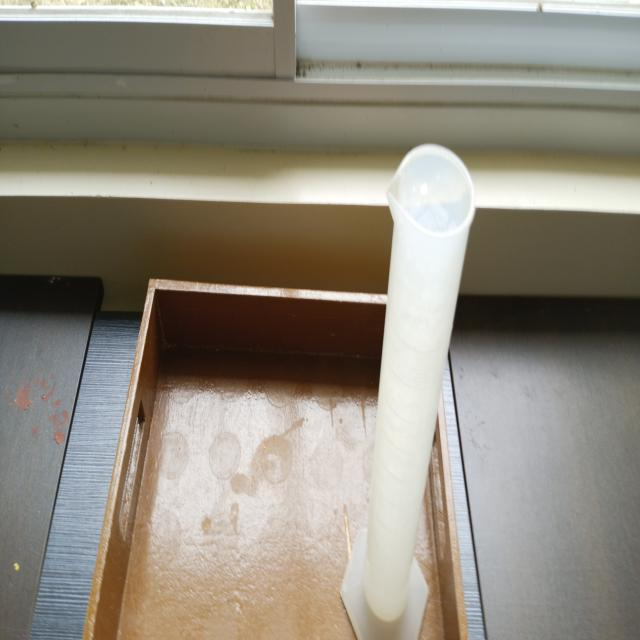graduated_cylinder: (332, 140, 478, 640)
